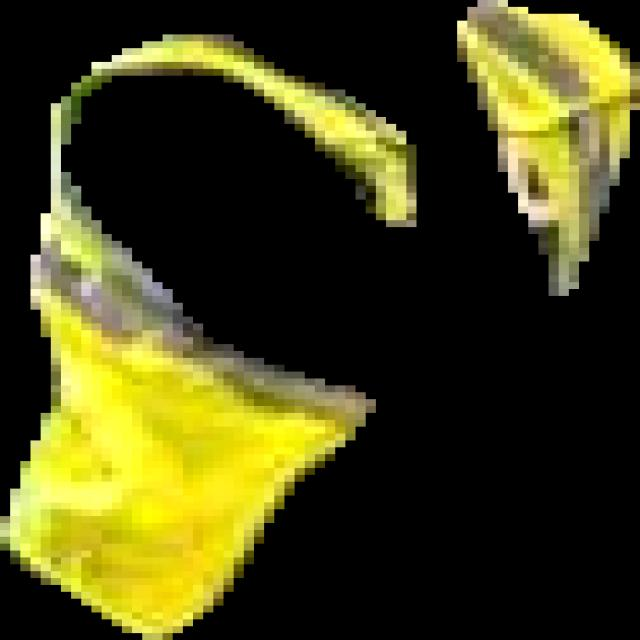Colete: (0, 35, 416, 639)
